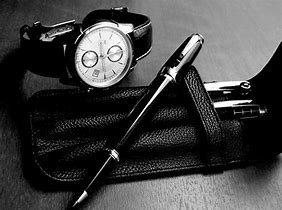pen: (69, 37, 209, 210)
